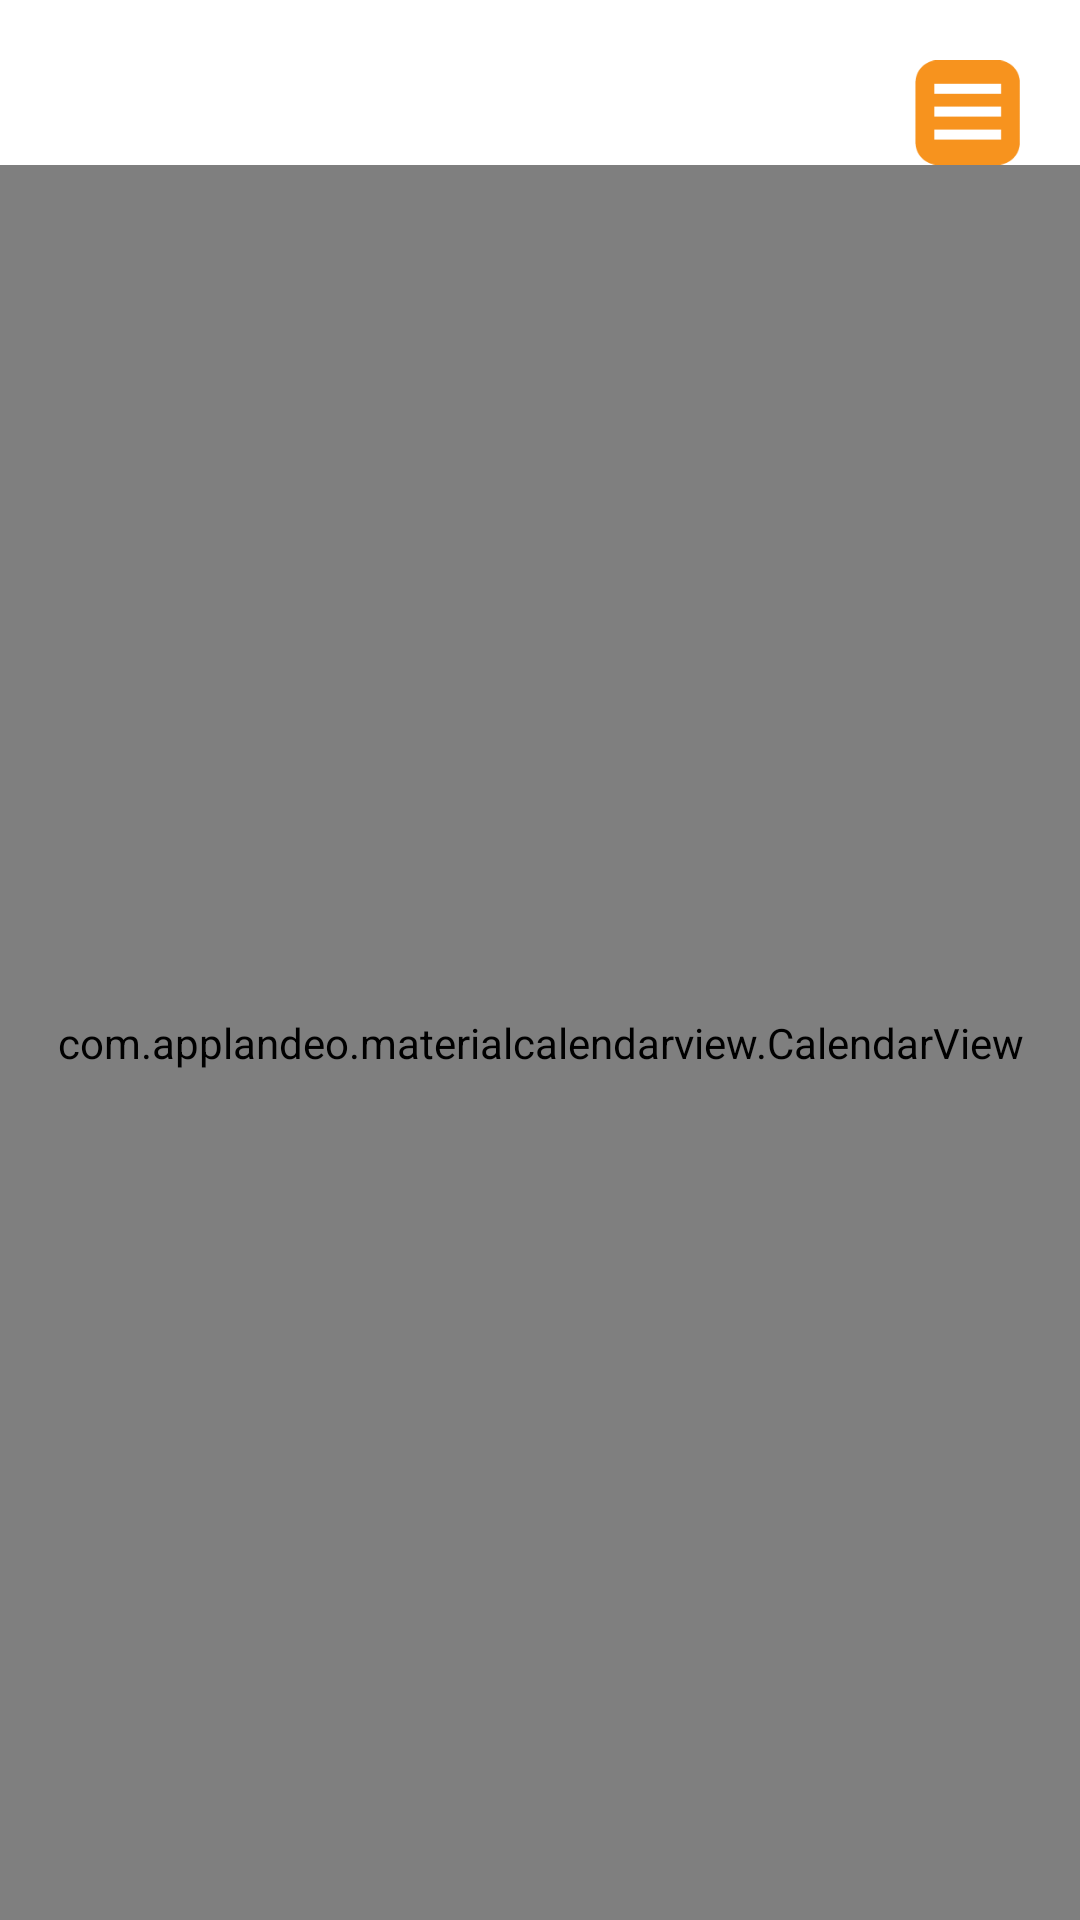

Icons on this 1080×1920 Android screen, each with the point to tap as [x,y]:
list: [967,112]
